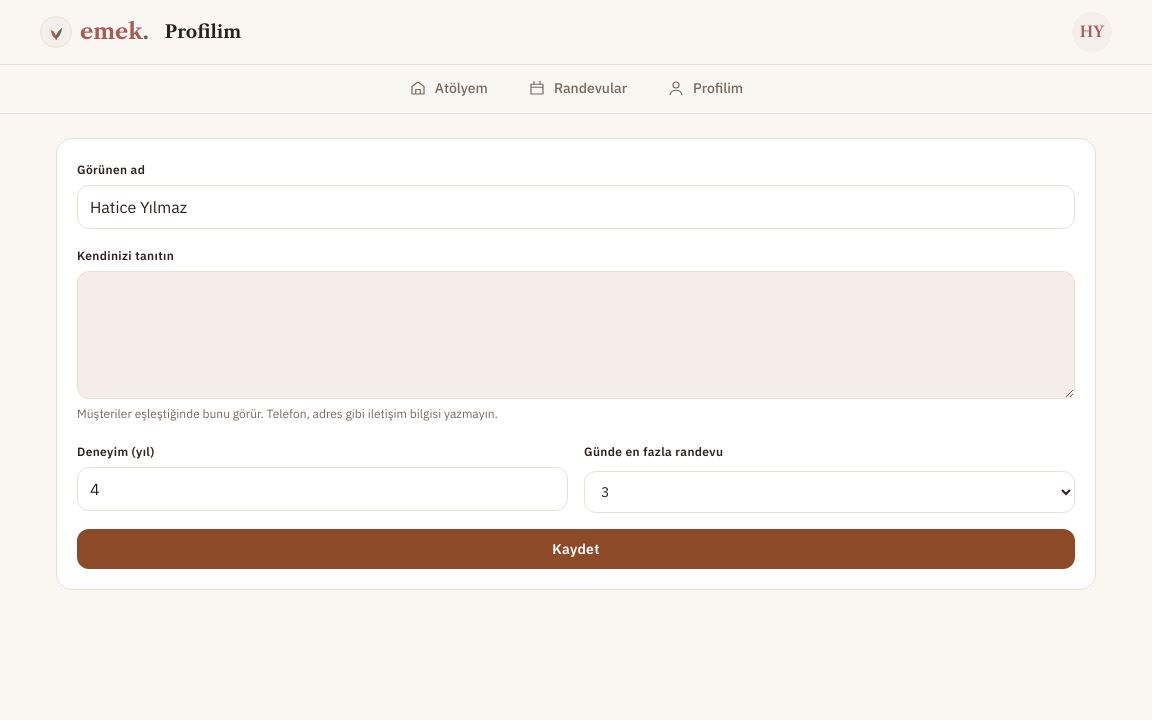
Profil › düzenlenen alanları gönderir; deneyim virgülle girilebilir
The image size is (1152, 720).
In the text box labelled "Kendinizi tanıtın": (576, 335) [77,271,1075,399], type "On yıldır ev temizliği yapıyorum."
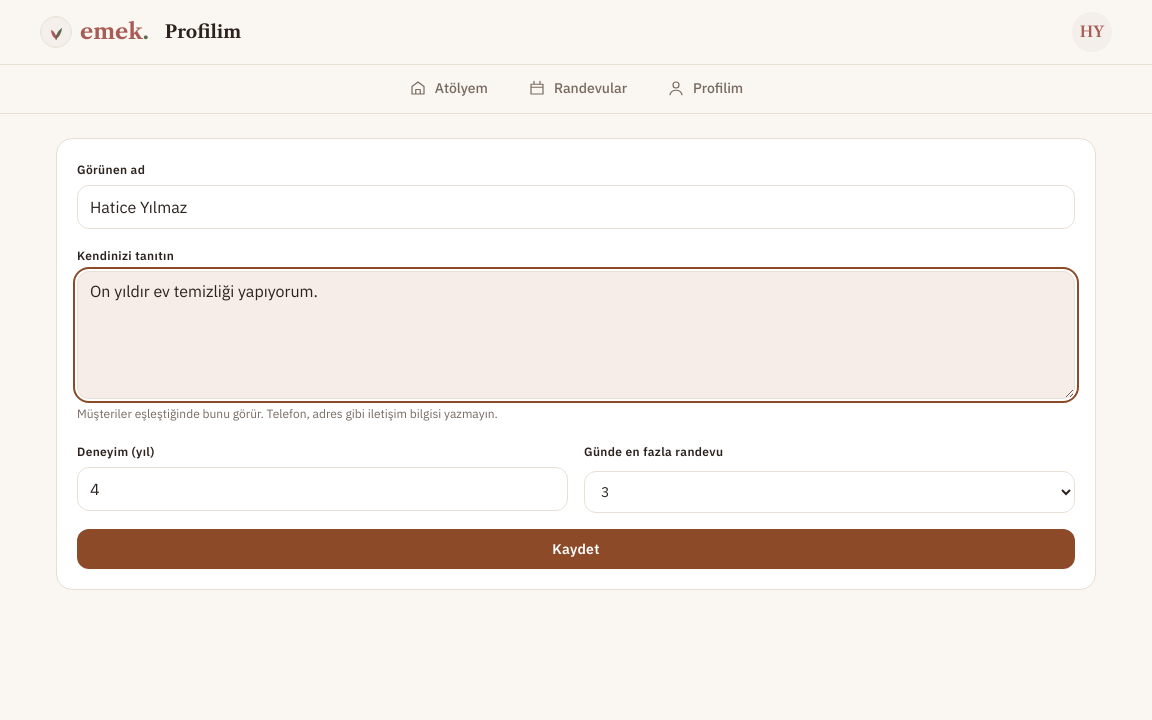
Replace the text in the field labelled "Deneyim (yıl)" with "4,5": (322, 489) [77,467,568,511]
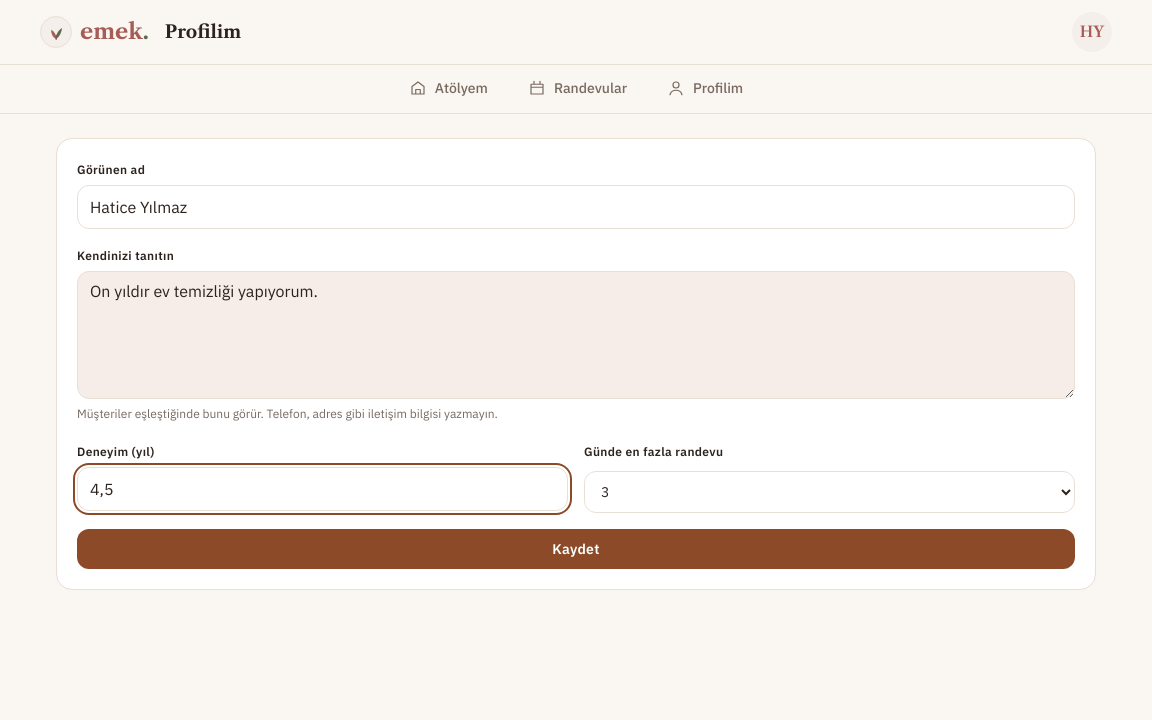
Select "2" in the dropdown labelled "Günde en fazla randevu": (830, 492) [584,471,1075,513]
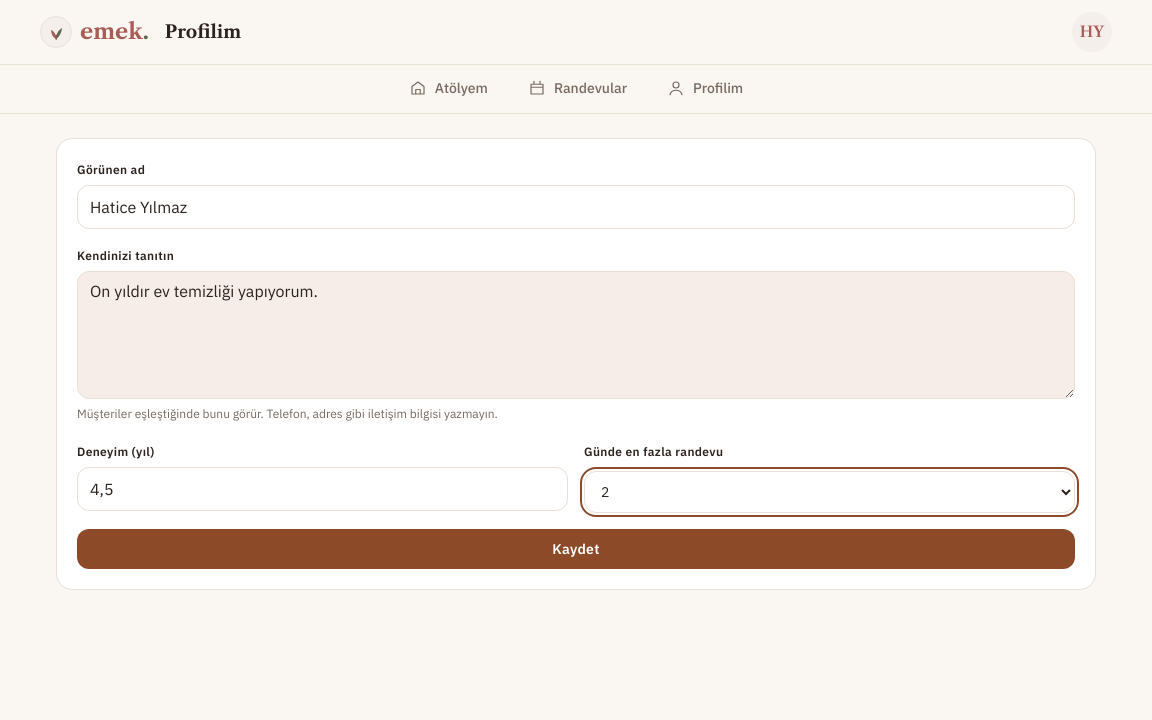
Click the button "Kaydet": (576, 549) [77,529,1075,569]
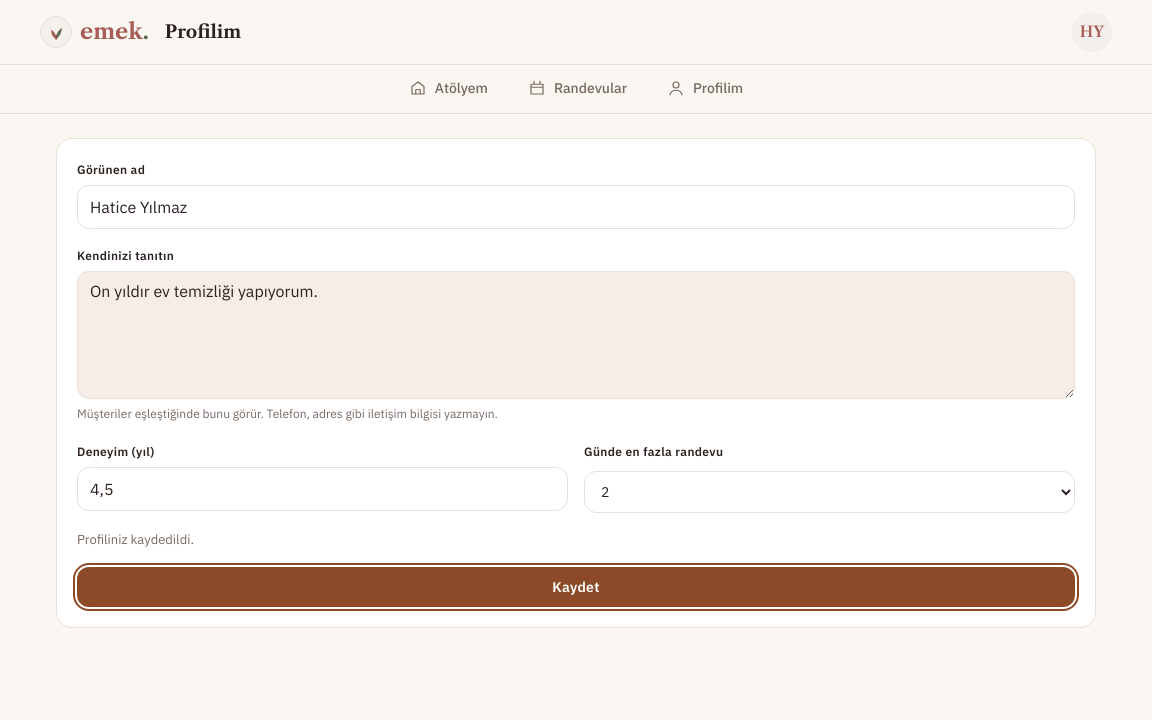
Check: the text "Profiliniz kaydedildi." is shown, box [77,531,194,548]
